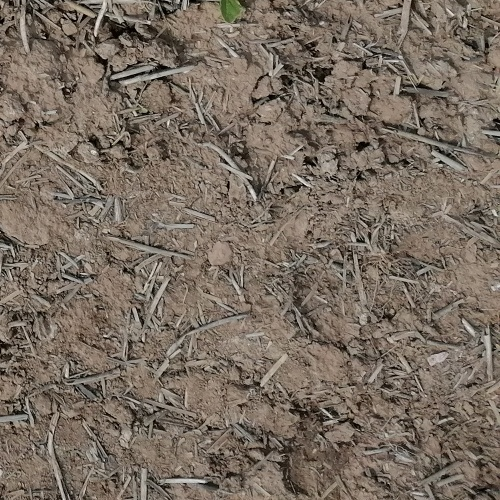beet: (219, 0, 245, 27)
